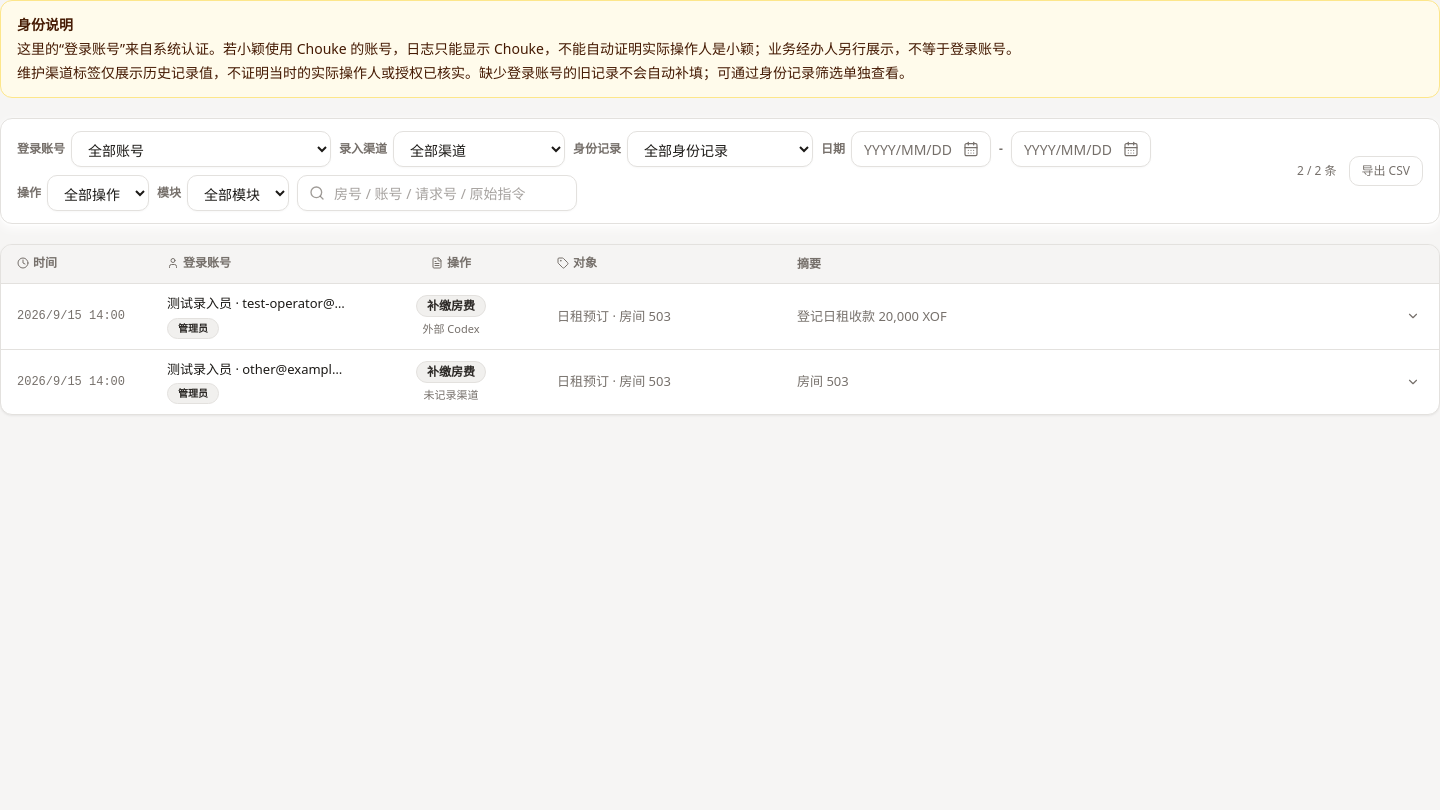
audit reader interactions › opens business details without requiring a review action
What coordinates should you click on to do the following:
click the button named "查看业务操作详情" in the row of "测试录入员 · test-operator@example.invalid"
I would click on:
 (1413, 316)
Its box is top-left (1399, 302), bottom-right (1427, 330).
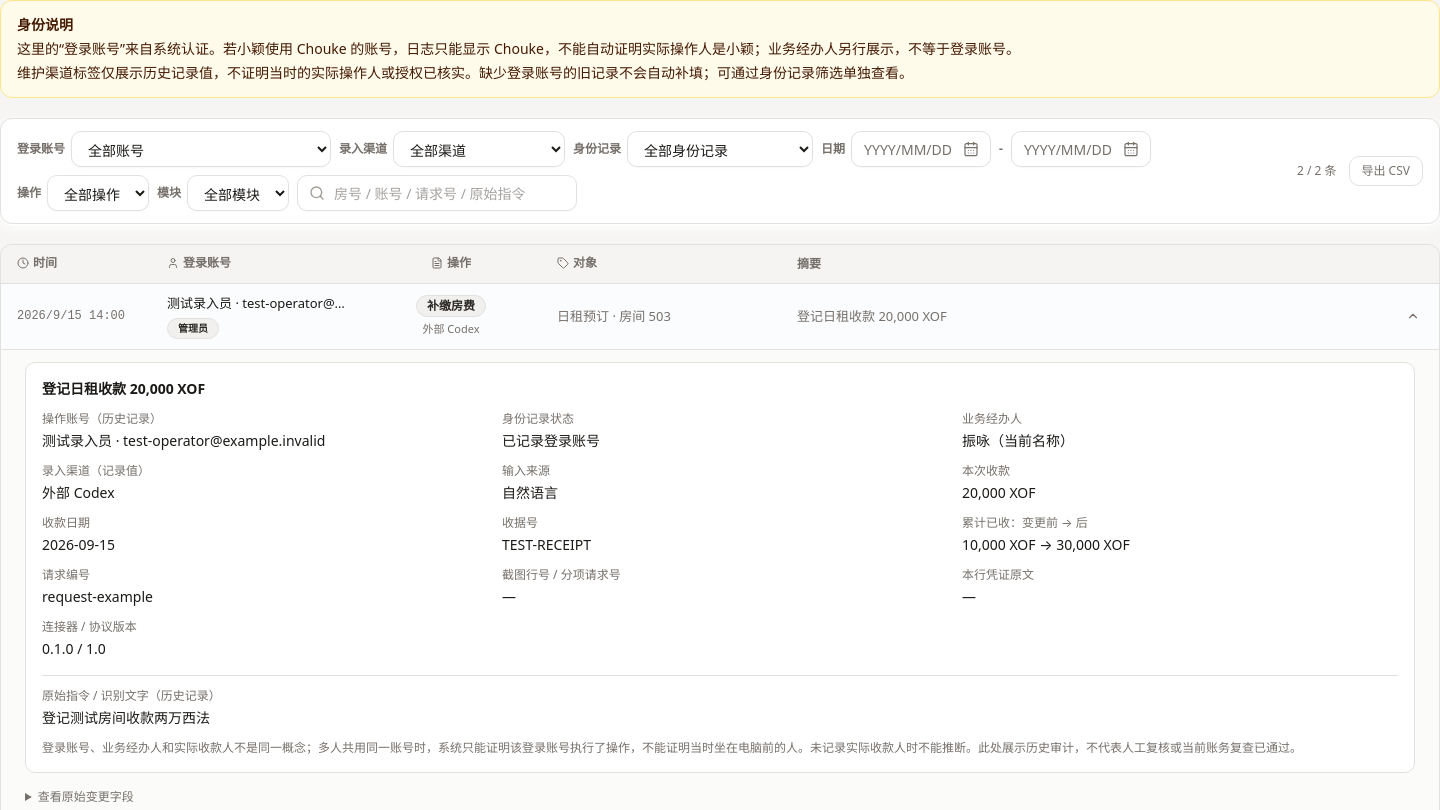
Expected: the element named "业务操作详情" shows "振咏（当前名称）", top-left (962, 430), bottom-right (1074, 450)
Expected: the element named "业务操作详情" shows "10,000 XOF → 30,000 XOF", top-left (962, 534), bottom-right (1130, 554)
Expected: the element named "业务操作详情" shows "request-example", top-left (42, 586), bottom-right (153, 606)
